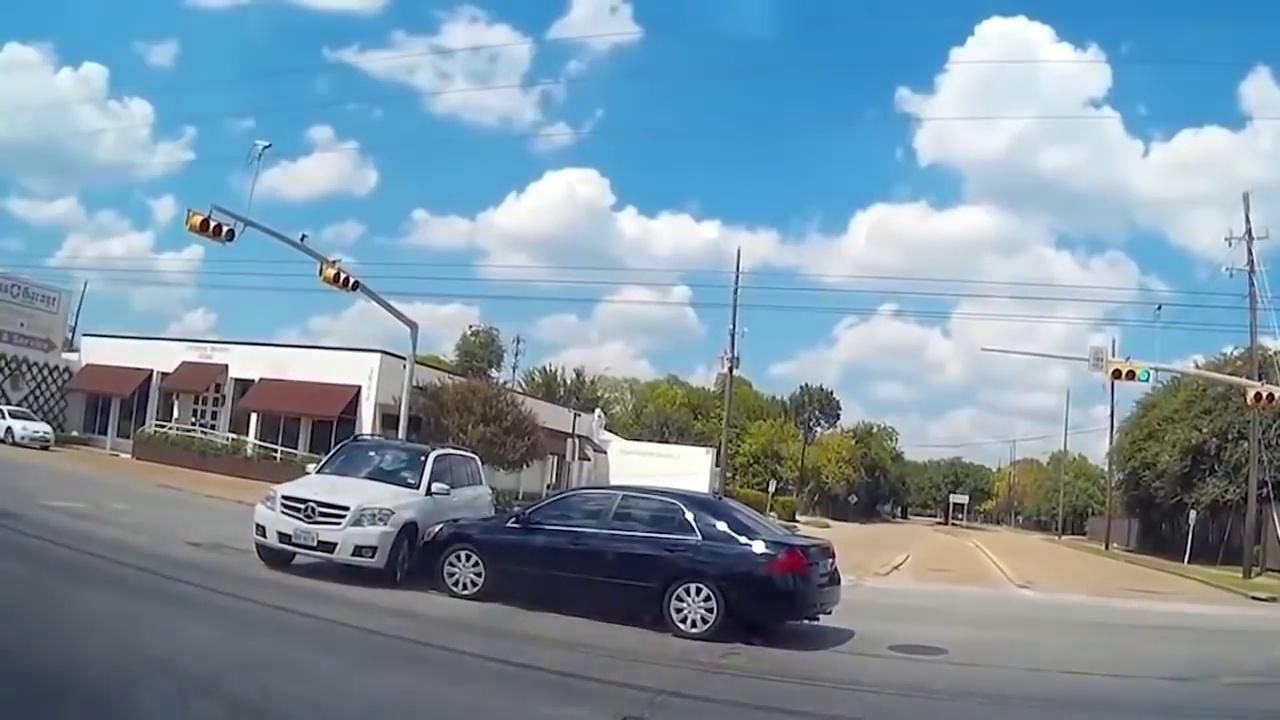car-accident: (254, 419, 848, 660)
